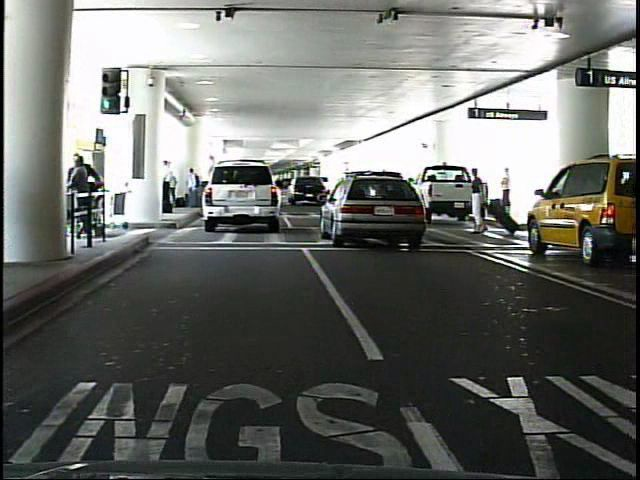person: (470, 166, 491, 235), (502, 166, 516, 217), (189, 167, 203, 210), (167, 157, 177, 217)
